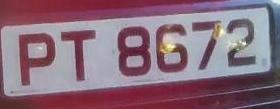2: (221, 14, 261, 68)
6: (148, 16, 193, 75)
7: (189, 16, 225, 73)
8: (113, 20, 155, 81)
P: (11, 27, 62, 92)
T: (56, 26, 102, 87)
